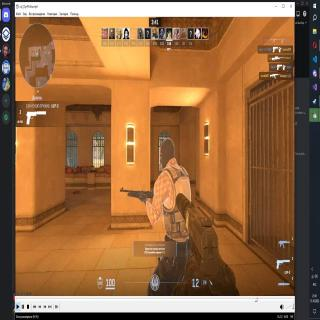T-Body: (143, 135, 190, 283)
T-Head: (157, 136, 177, 165)
